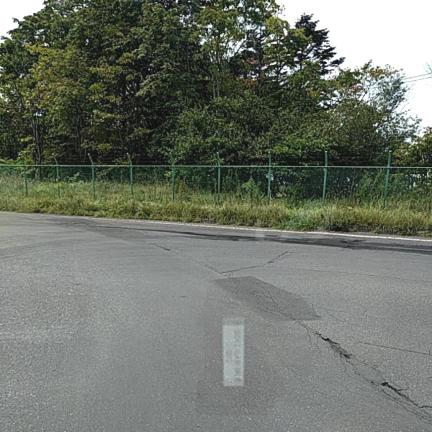Road: (0, 214, 431, 431)
